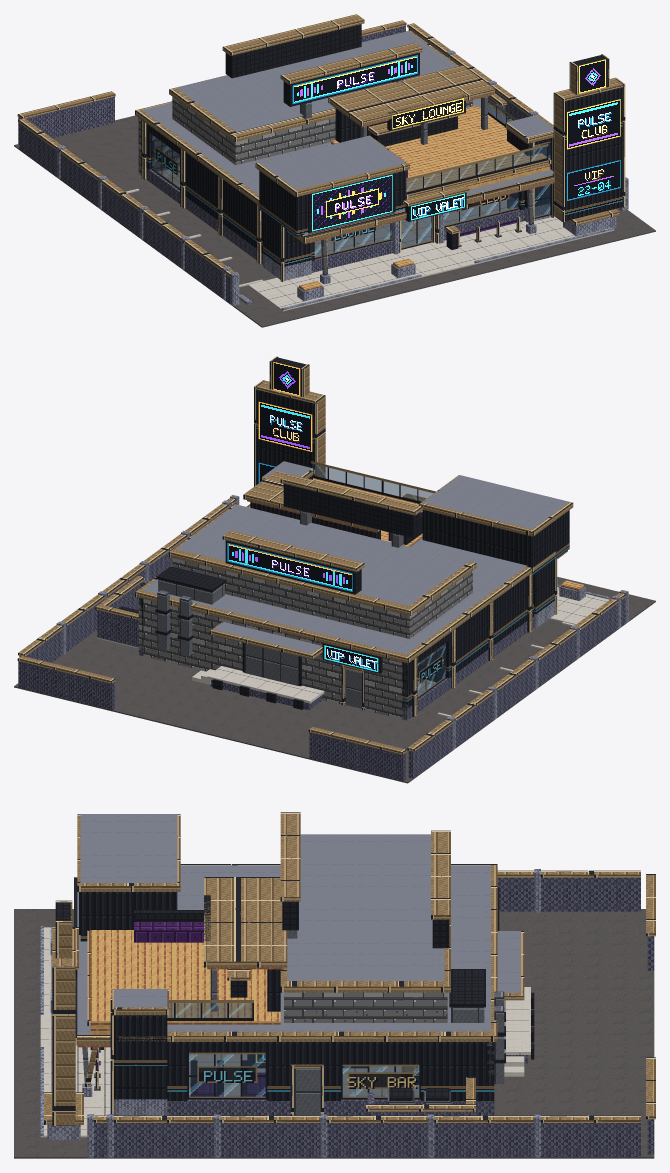
Rendered from pulse-nightclub.glb.
3 renders of one model, top to bottom at view 1: azimuth 30°, elevation 25°; view 2: azimuth 150°, elevation 25°; view 3: azimuth 270°, elevation 25°, orthographic. The views are drawn at different scales.
Parts seen in each view (by area): view 1: structure, lot, led_monolith, valet_plaza, door_panel_main; view 2: structure, lot, led_monolith, service_yard, door_panel_back; view 3: structure, lot, led_monolith, service_yard, door_panel_side.
Part boxes in pixels (x1,y1,x2,y2): structure: [135, 14, 554, 284]; lot: [14, 20, 655, 327]; led_monolith: [553, 54, 625, 235]; valet_plaza: [297, 216, 521, 301]; door_panel_main: [401, 215, 434, 250]; structure: [135, 461, 573, 720]; lot: [14, 495, 655, 783]; led_monolith: [254, 356, 325, 486]; service_yard: [95, 576, 148, 648]; door_panel_back: [345, 668, 361, 708]; structure: [72, 812, 534, 1115]; lot: [14, 869, 655, 1158]; led_monolith: [44, 900, 83, 1139]; service_yard: [366, 1076, 475, 1115]; door_panel_side: [294, 1068, 320, 1115].
Size of what is drawn, in the model's own units: 27.47 by 11.17 by 29.88.
Materials: 12 (12 with a texture image).
